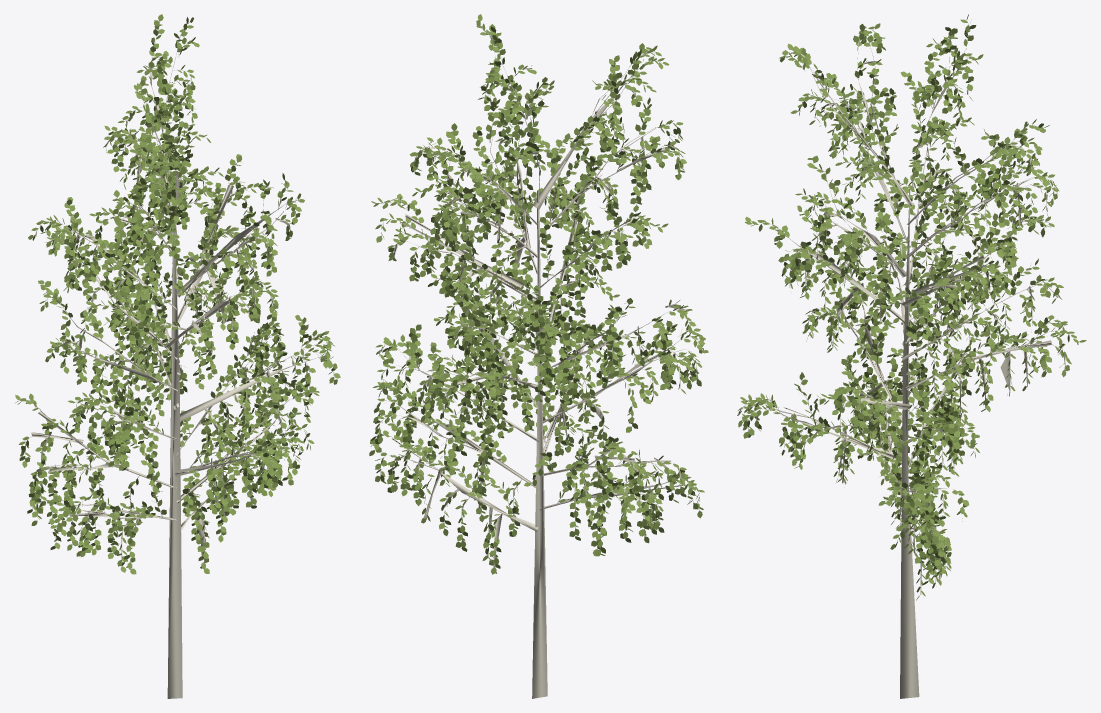
The model's file is silver_birch_23.glb.
3 renders of one model, left to right at view 1: azimuth 30°, elevation 25°; view 2: azimuth 150°, elevation 25°; view 3: azimuth 270°, elevation 25°, orthographic. The views are drawn at different scales.
Visible parts, largest first — view 1: Woodland silver_birch_23; view 2: Woodland silver_birch_23; view 3: Woodland silver_birch_23.
Part boxes in pixels (bbox=[...]): Woodland silver_birch_23: bbox=[15, 14, 340, 698]; Woodland silver_birch_23: bbox=[369, 14, 708, 698]; Woodland silver_birch_23: bbox=[737, 14, 1086, 698].
Size of the model in its own units: 5.71 by 11.97 by 5.5.
